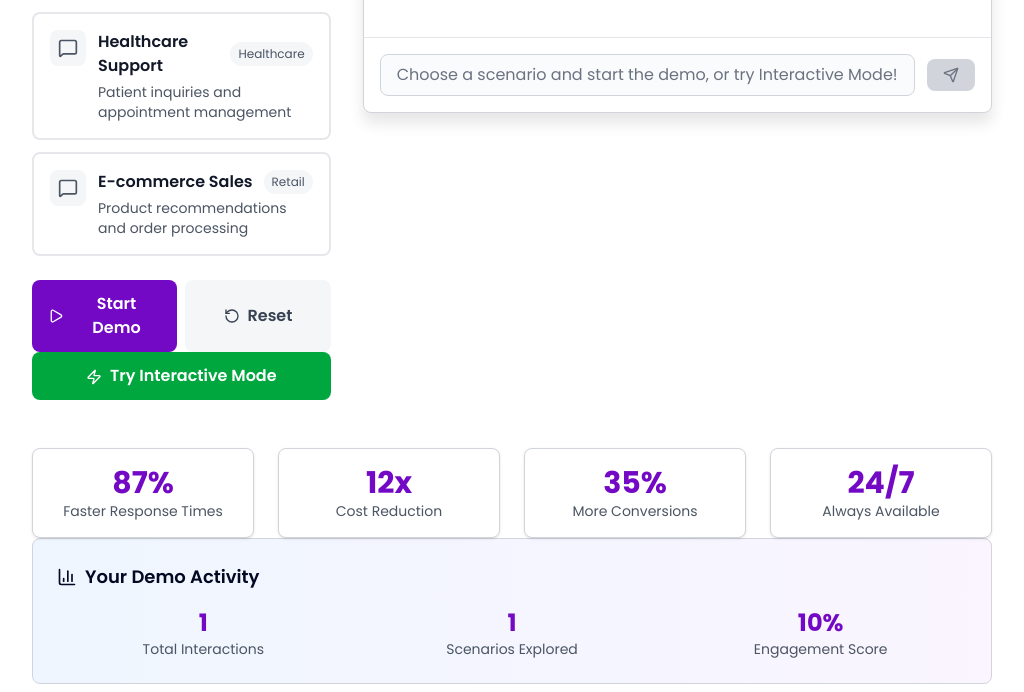
SmartAssistantDemo › resets demo when reset button is clicked
The width and height of the screenshot is (1024, 692).
(page scrolled)
First start the demo
Click the button "Start Demo" at {"x": 105, "y": 316}, box [32,280,177,352]
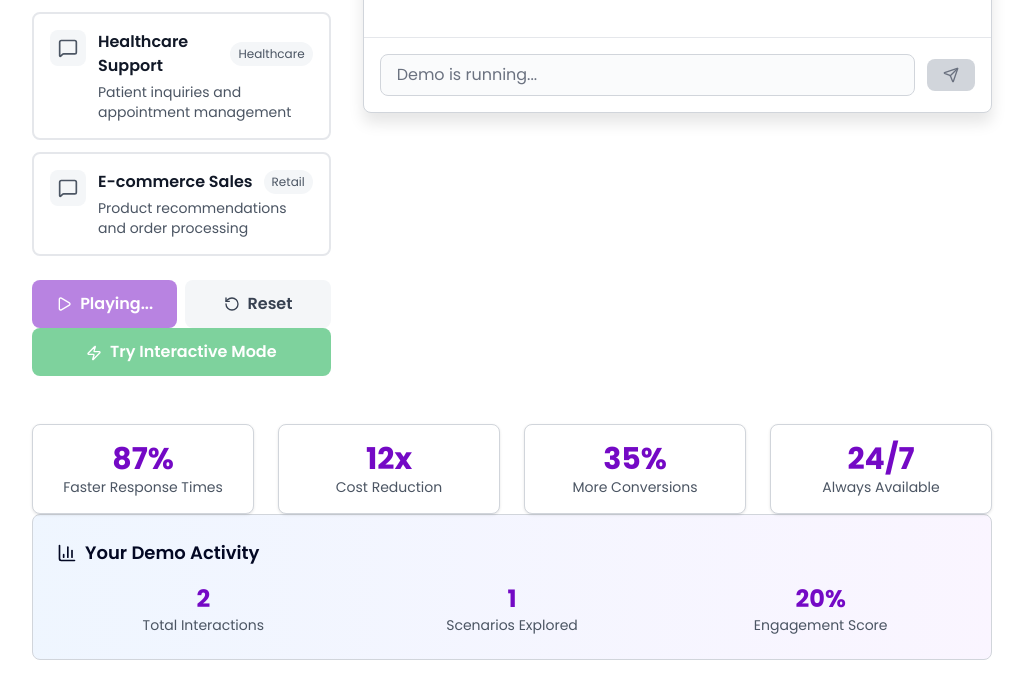
Now the button "Playing..." is shown, box [32,280,177,328]
Find and click reset button (it's an icon button, not text)
Click the button "Reset" at {"x": 258, "y": 304}, box [185,280,331,328]
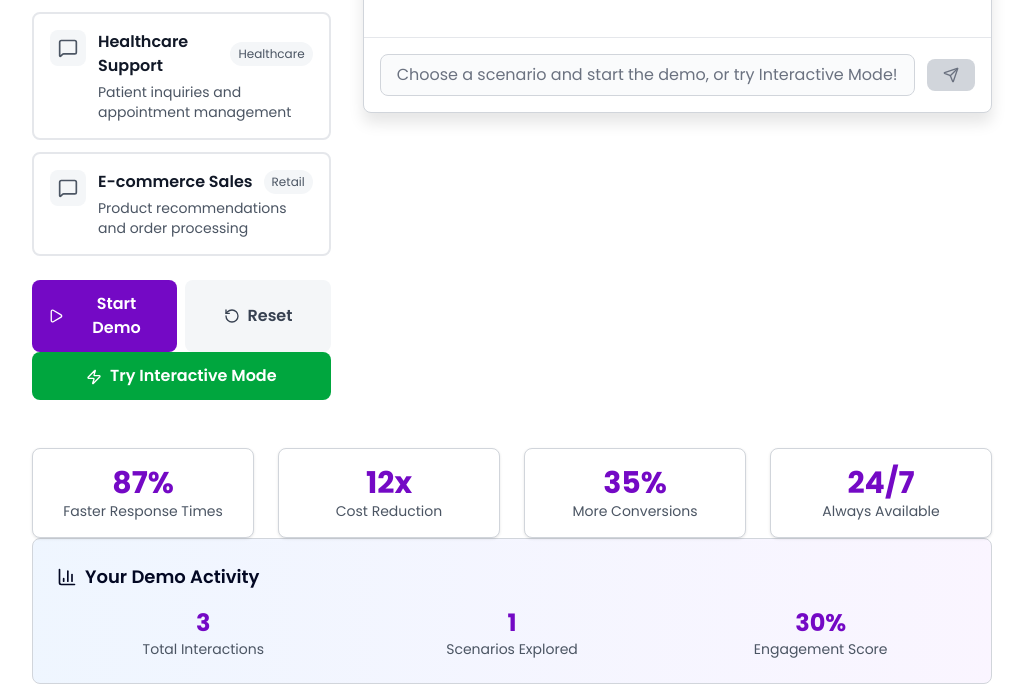
Now the button "Start Demo" is shown, box [32,280,177,352]
